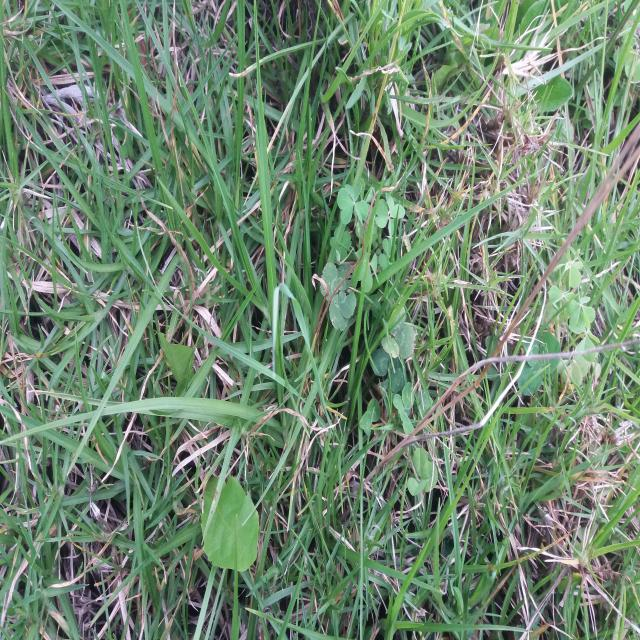Four Leaf Clover: (413, 464, 454, 526), (320, 262, 356, 331)
